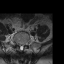CCS_normal: (20, 42, 22, 52)
LFS_stenosis: (24, 41, 26, 47)
LLS_normal: (22, 41, 24, 50)
RFS_normal: (17, 40, 19, 47)
RLS_normal: (19, 41, 20, 50)
